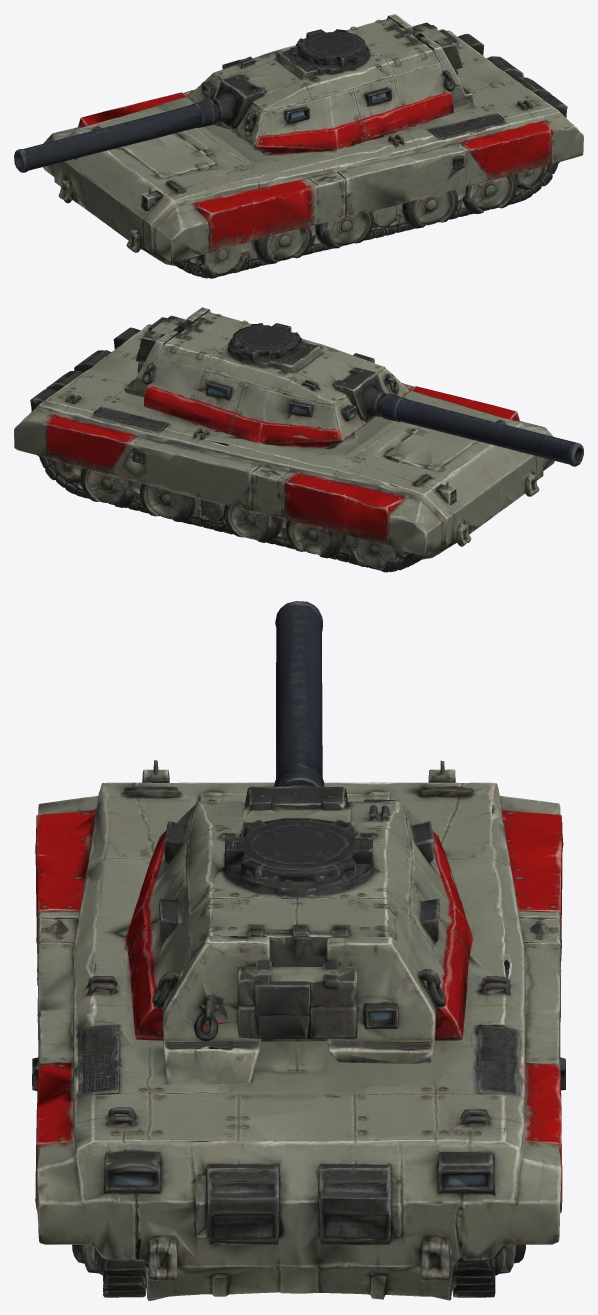
Rendered from htnk-v4-actions.glb.
3 views of the same model, one above another, from view 1: azimuth 30°, elevation 25°; view 2: azimuth 150°, elevation 25°; view 3: azimuth 270°, elevation 25° (orthographic). The views are drawn at different scales.
Parts seen in each view (by area): view 1: Hull, Turret, Barrel; view 2: Hull, Turret, Barrel; view 3: Hull, Turret, Barrel.
Part boxes in pixels (x1,y1,x2,y2): Hull: (43, 29, 583, 278); Turret: (187, 14, 475, 154); Barrel: (14, 103, 202, 172); Hull: (14, 324, 554, 572); Turret: (124, 307, 410, 448); Barrel: (395, 398, 583, 466); Hull: (32, 760, 565, 1300); Turret: (115, 765, 479, 1084); Barrel: (275, 601, 322, 778).
Size of the model in its own units: 1.9 by 0.5634 by 0.8626.
1 material, 1 textured.
